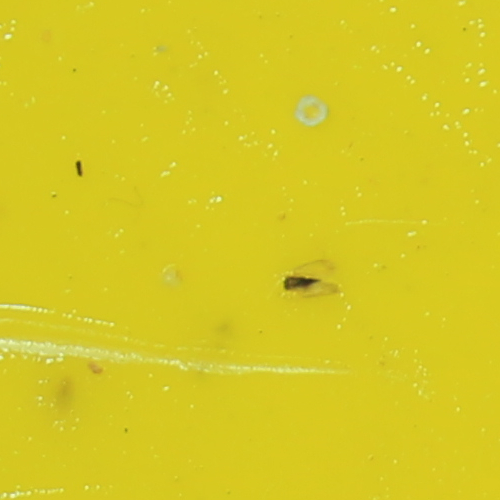psylla: (280, 272, 320, 291)
